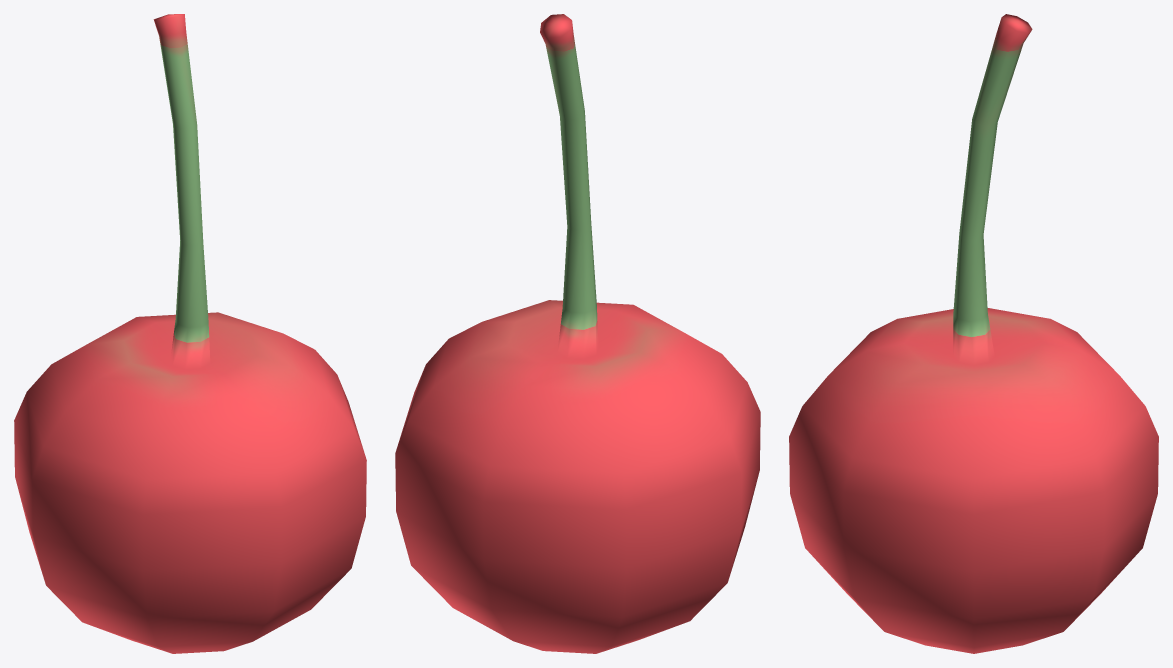
The model's file is cherry.fbx.
3 views of the same model, side by side, from view 1: azimuth 30°, elevation 25°; view 2: azimuth 150°, elevation 25°; view 3: azimuth 270°, elevation 25° (orthographic). The views are drawn at different scales.
Visible parts, largest first — view 1: pSphere1; view 2: pSphere1; view 3: pSphere1.
Boxes of the visible parts, x1,y1,x2,y2 form: pSphere1: [14, 14, 366, 653]; pSphere1: [395, 14, 760, 653]; pSphere1: [789, 14, 1158, 653].
Size of the model in its own units: 0.7381 by 1.35 by 0.7381.
Materials: 1 (1 with a texture image).
